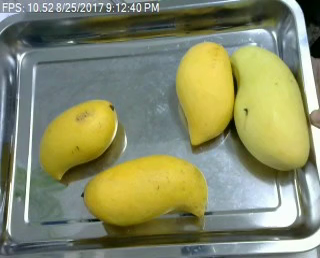Mango: (227, 43, 314, 169), (82, 153, 208, 228), (37, 97, 116, 179), (174, 42, 235, 147)
